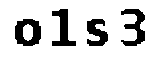1: (49, 5, 80, 52)
3: (120, 8, 150, 50)
o: (12, 17, 45, 48)
s: (84, 18, 111, 50)
